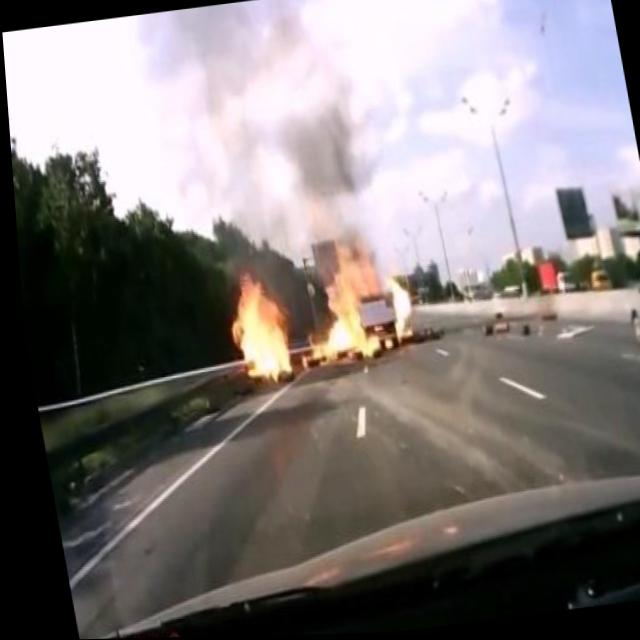fire: (210, 239, 378, 393), (376, 264, 417, 349)
